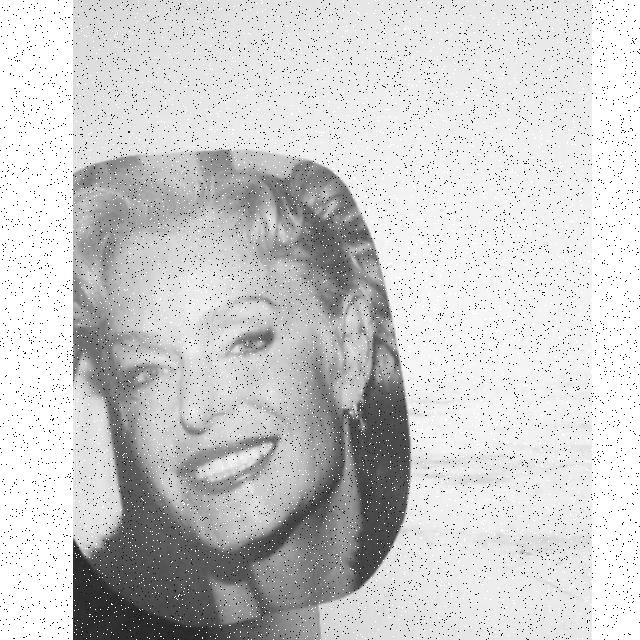fake: (75, 144, 414, 631)
